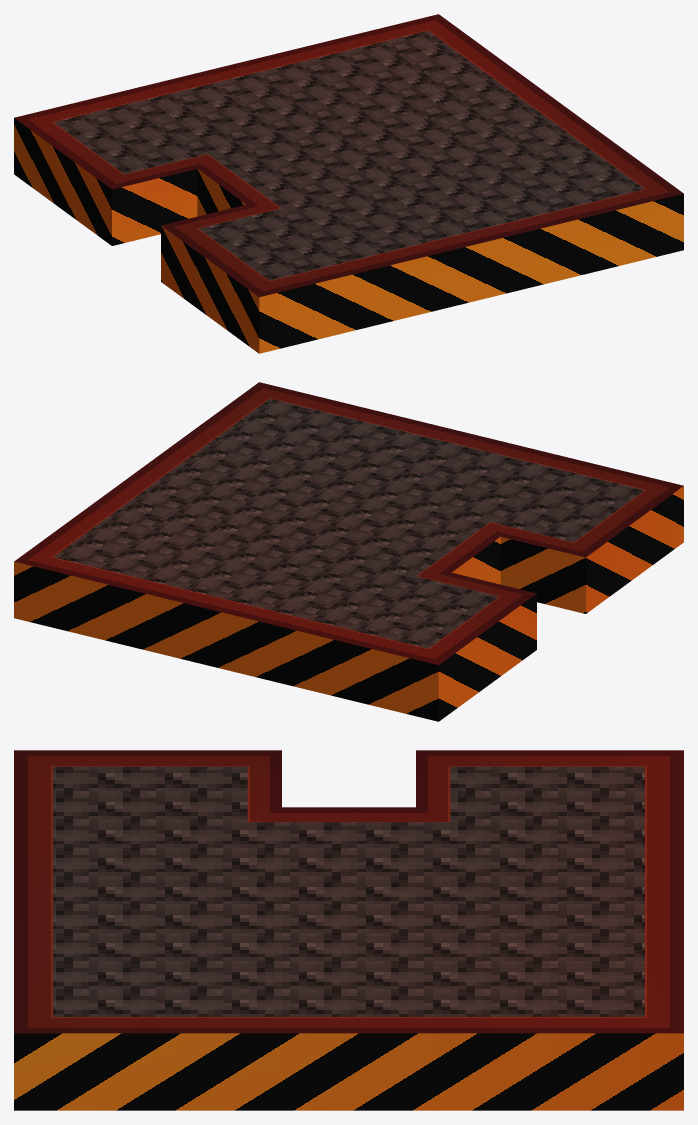
File: DECO_SINK_PLAT.glb
The picture shows the model from 3 angles, top to bottom: view 1: azimuth 30°, elevation 25°; view 2: azimuth 150°, elevation 25°; view 3: azimuth 270°, elevation 25°; orthographic projection. The views are drawn at different scales.
Visible parts, largest first — view 1: DECO_SINK_PLAT; view 2: DECO_SINK_PLAT; view 3: DECO_SINK_PLAT.
Boxes of the visible parts, x1=… form: DECO_SINK_PLAT: x1=14, y1=14, x2=683, y2=353; DECO_SINK_PLAT: x1=14, y1=382, x2=683, y2=721; DECO_SINK_PLAT: x1=14, y1=750, x2=683, y2=1110.
Size of the model in its own units: 2 by 0.2546 by 2.
3 materials, 3 textured.
